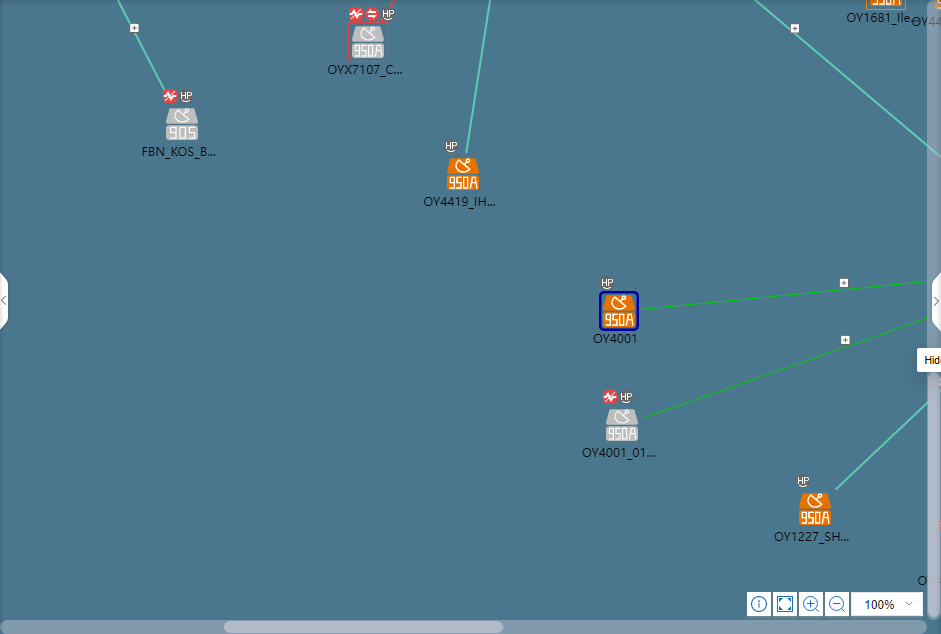Link_Blue: (748, 1, 941, 159), (833, 400, 927, 492), (116, 0, 166, 92), (464, 0, 493, 155)
Link_Green: (643, 316, 927, 421), (640, 279, 927, 312)
RTN_Gray: (351, 25, 384, 59), (166, 108, 197, 140), (606, 410, 637, 441)
RTN_Orange: (601, 295, 635, 329), (798, 494, 830, 526), (447, 158, 478, 190)
